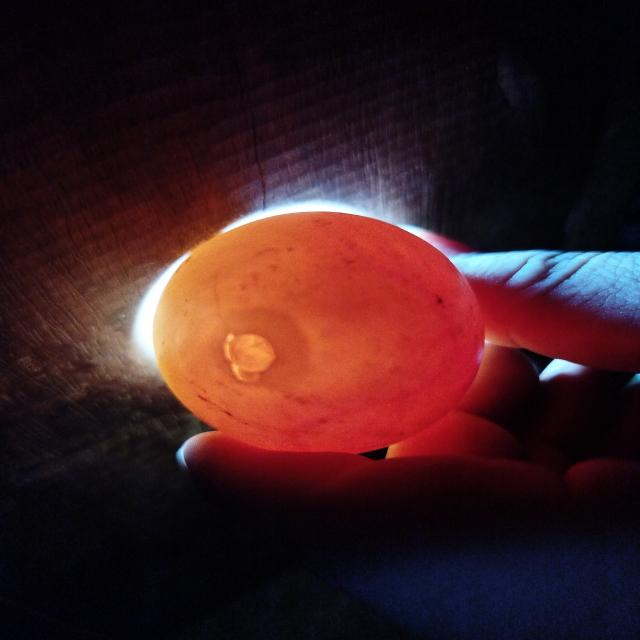Rachadura: (223, 333, 276, 382)
